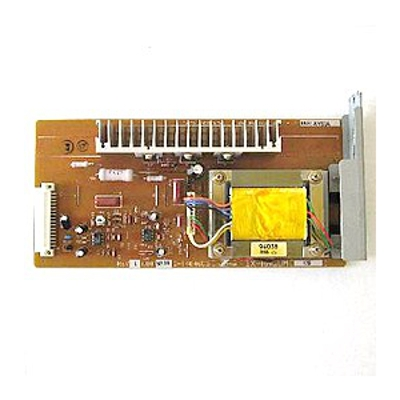capacitor: (74, 224, 88, 235), (60, 215, 71, 229), (76, 247, 88, 257), (157, 248, 166, 256), (150, 212, 158, 221)
